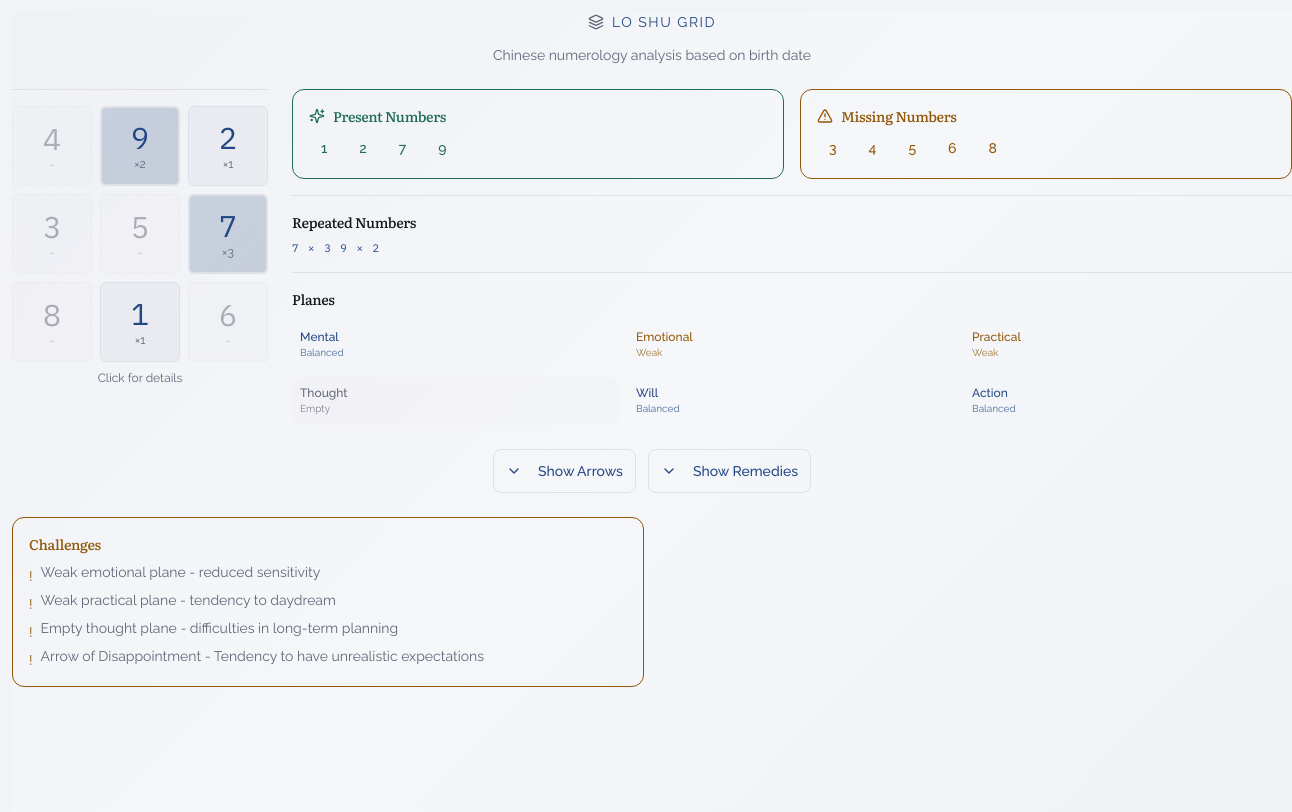
Test: LoShuGrid › schimbă detaliile când apeși altă cifră
Click the button "7 ×3" at (228, 234), box [188,194,268,274]
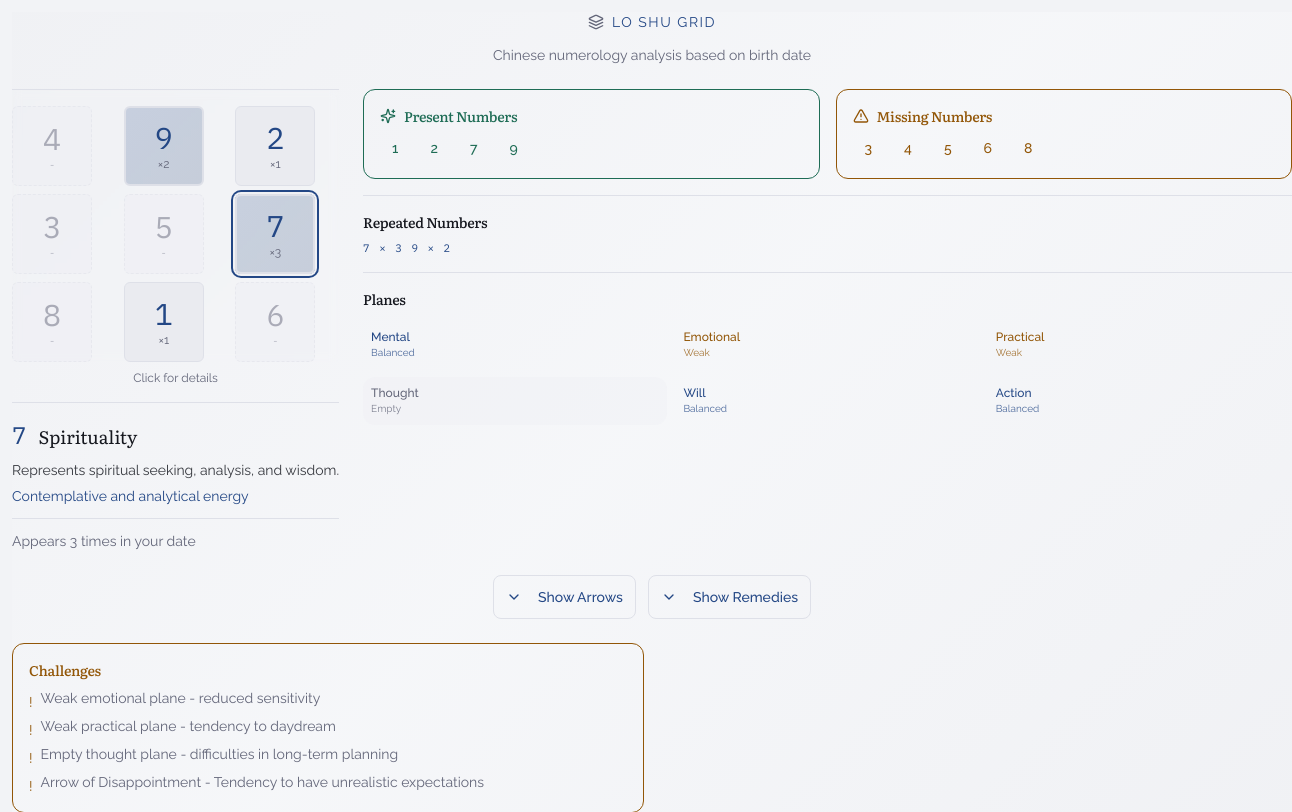
Click the button "9 ×2" at (164, 146), box [124,106,204,186]
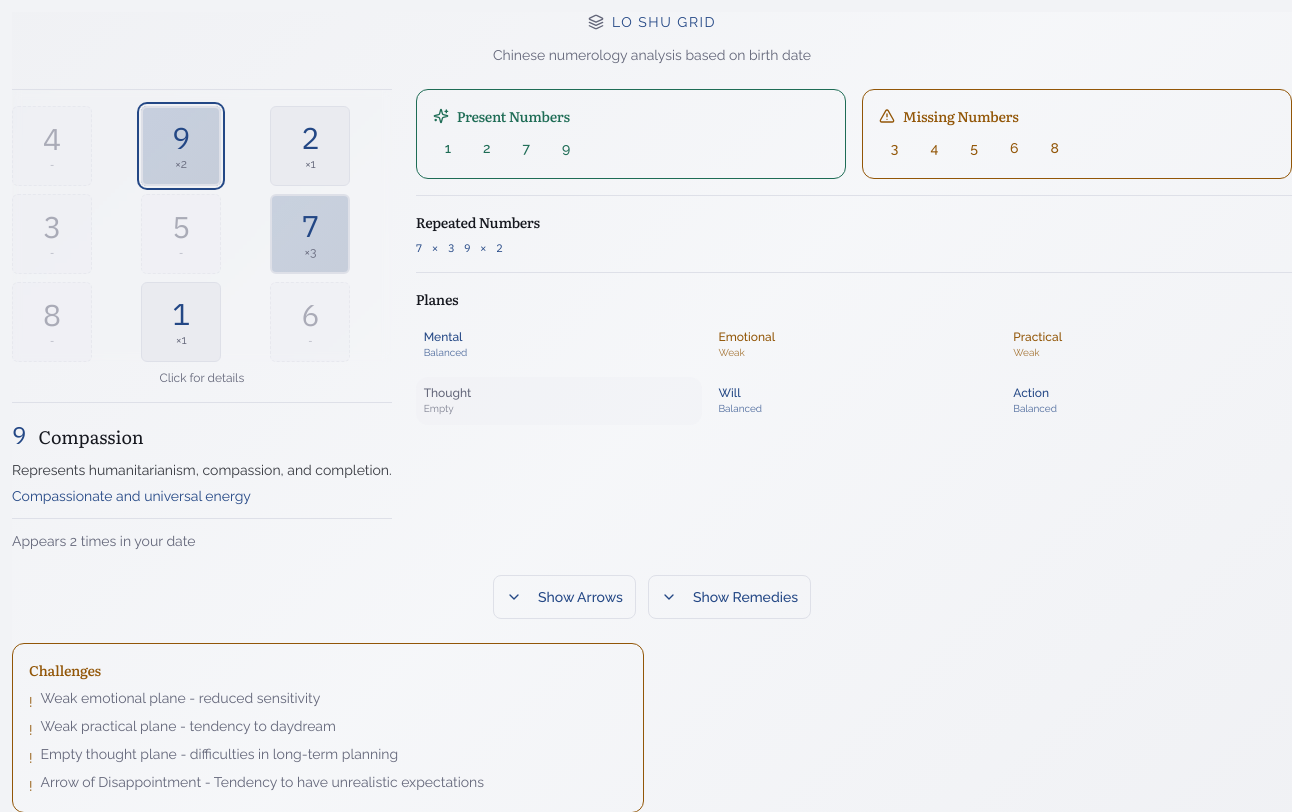
expect the element that starts with "Compassion" is shown: met, box [38,423,144,450]
expect the text "Represents spiritual seeking, analysis, and wisdom." is gone: met
